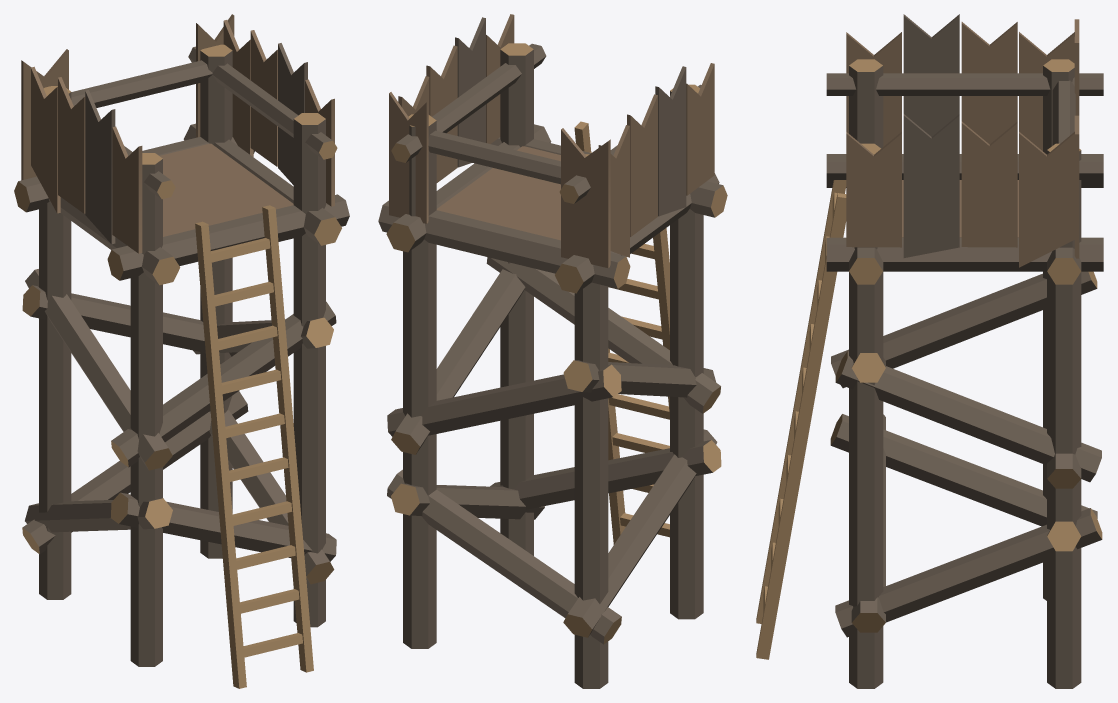
File: bEt2s.fbx
3 renders of one model, left to right at view 1: azimuth 30°, elevation 25°; view 2: azimuth 150°, elevation 25°; view 3: azimuth 270°, elevation 25°, orthographic. The views are drawn at different scales.
Visible parts, largest first — view 1: Tower; view 2: Tower; view 3: Tower.
Boxes of the visible parts, x1=… form: Tower: x1=14, y1=14, x2=349, y2=688; Tower: x1=378, y1=14, x2=727, y2=688; Tower: x1=756, y1=14, x2=1103, y2=688.
Size of the model in its own units: 275 by 631 by 344.
